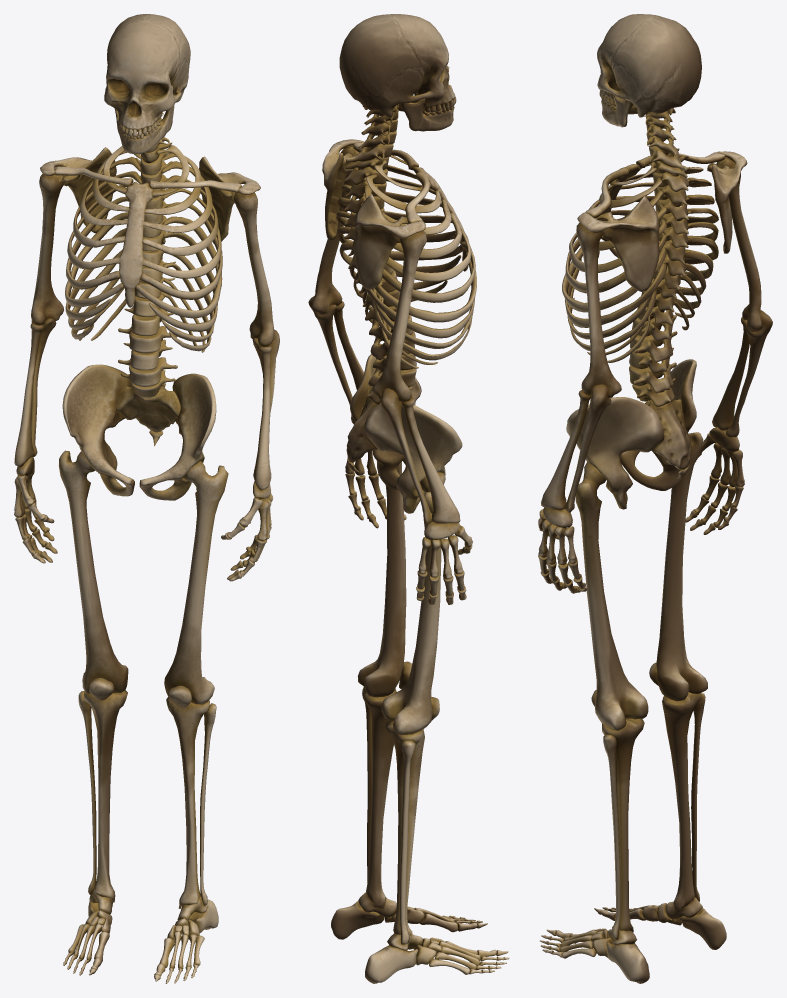
Rendered from humain_skeleton.glb.
The picture shows the model from 3 angles, left to right: view 1: azimuth 30°, elevation 25°; view 2: azimuth 150°, elevation 25°; view 3: azimuth 270°, elevation 25°; orthographic projection. The views are drawn at different scales.
Visible parts, largest first — view 1: node_id36_1; view 2: node_id36_1; view 3: node_id36_1.
Part boxes in pixels (bbox=[...]): node_id36_1: bbox=[14, 14, 279, 983]; node_id36_1: bbox=[308, 14, 509, 983]; node_id36_1: bbox=[538, 14, 772, 983].
Bounding box in the file's own units: 0.1175 × 0.4974 × 0.1131.
Materials: 1 (1 with a texture image).
